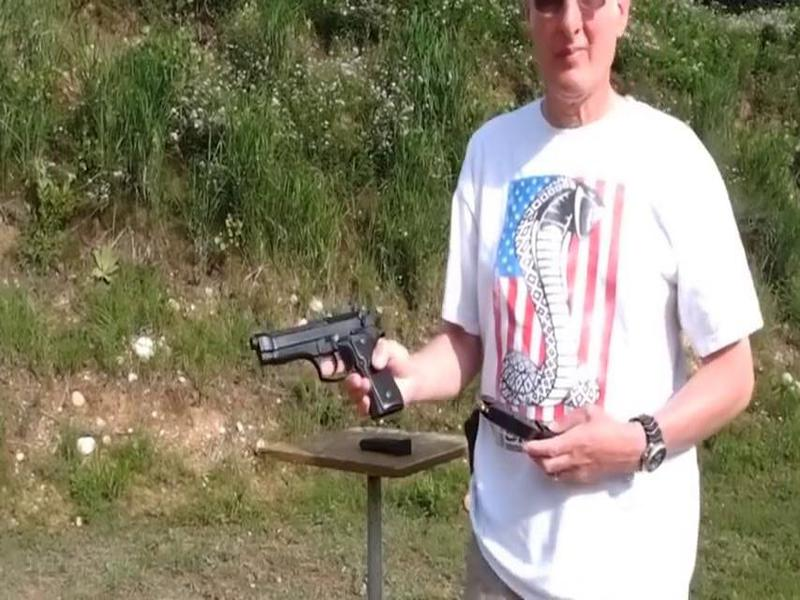Pistola: (220, 274, 429, 440)
